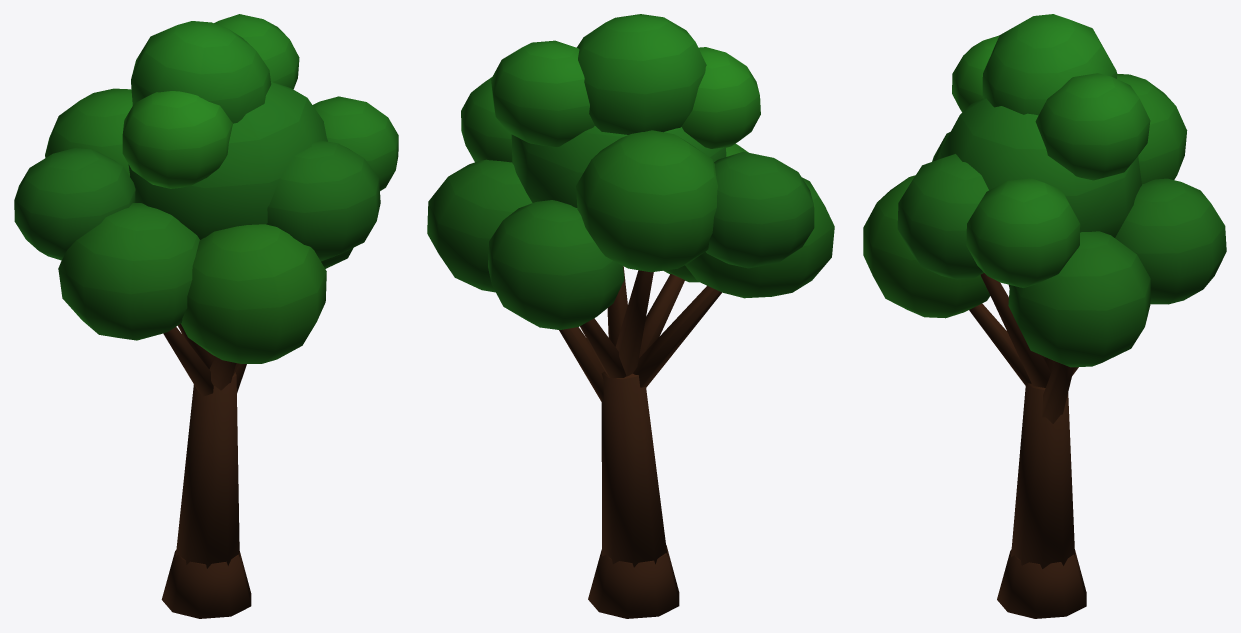
Rendered from tree.glb.
3 renders of one model, left to right at view 1: azimuth 30°, elevation 25°; view 2: azimuth 150°, elevation 25°; view 3: azimuth 270°, elevation 25°, orthographic. The views are drawn at different scales.
Parts seen in each view (by area): view 1: tree; view 2: tree; view 3: tree.
Boxes of the visible parts, <box> form: tree: <box>14,14,398,618</box>; tree: <box>427,14,834,618</box>; tree: <box>863,14,1226,618</box>.
Size of the model in its own units: 1.05 by 1.64 by 0.9413.
